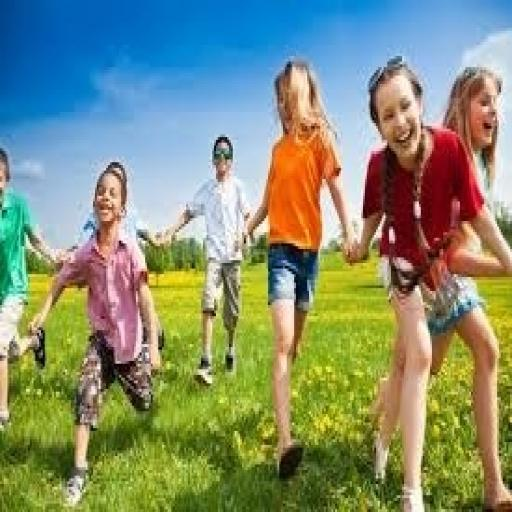running: (345, 53, 510, 509), (242, 56, 358, 484), (26, 157, 162, 509), (151, 131, 255, 389), (0, 142, 73, 436)
